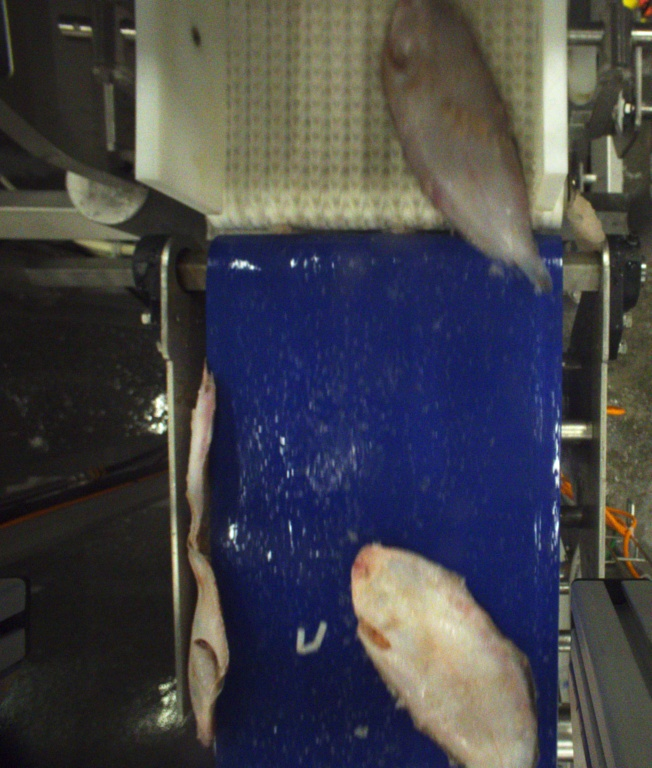SOL: (376, 0, 551, 297)
